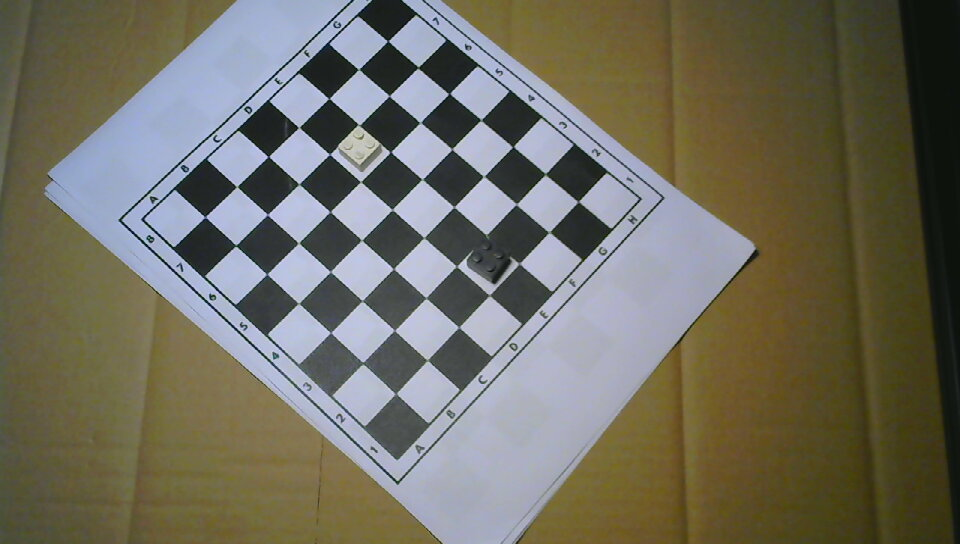bp: (467, 238, 513, 286)
wp: (337, 124, 383, 173)
